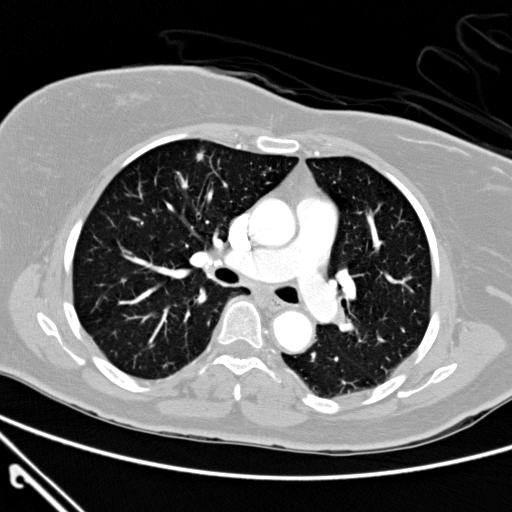nodule: (193, 149, 208, 164)
